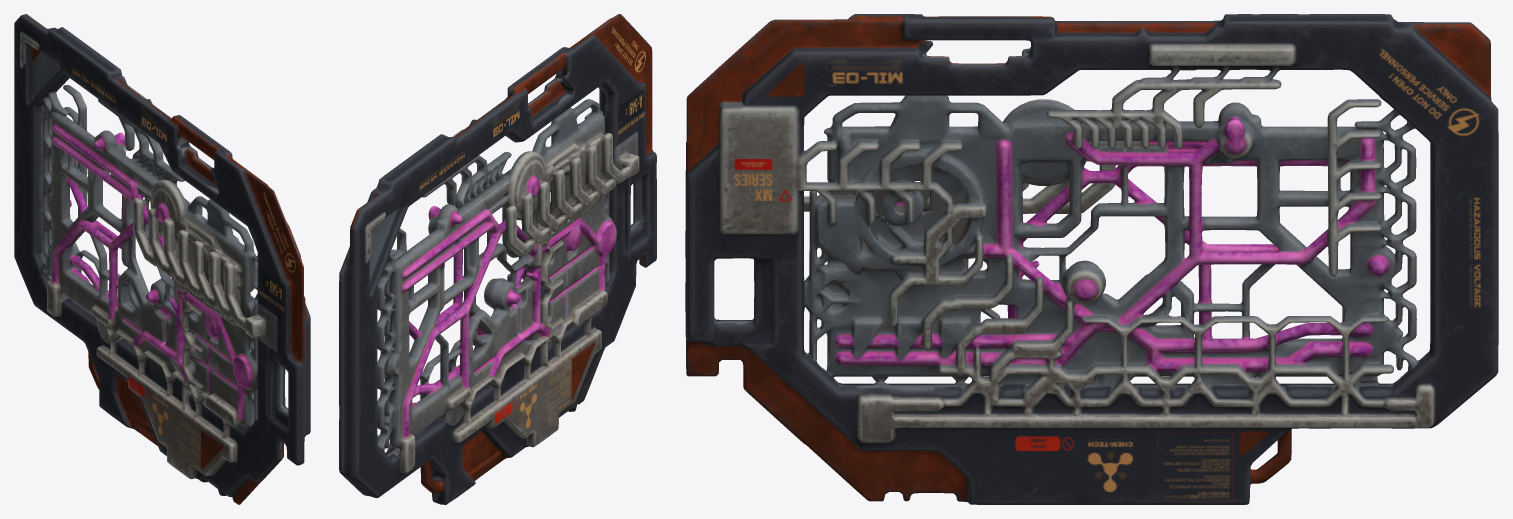
Rendered from card2.fbx.
3 renders of one model, left to right at view 1: azimuth 30°, elevation 25°; view 2: azimuth 150°, elevation 25°; view 3: azimuth 270°, elevation 25°, orthographic. The views are drawn at different scales.
Visible parts, largest first — view 1: card; view 2: card; view 3: card.
Part boxes in pixels (x1,y1,x2,y2): card: (14,14,310,504); card: (339,14,656,504); card: (685,14,1498,504).
Size of the model in its own units: 2.23 by 21.73 by 33.
